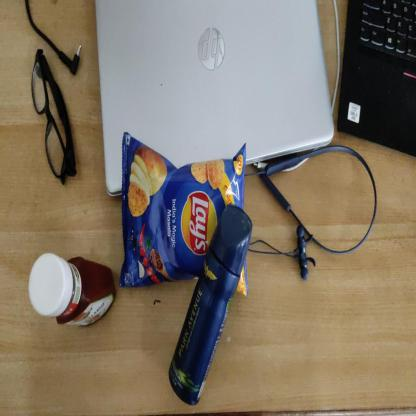indian_magic_masala: (119, 131, 246, 294)
